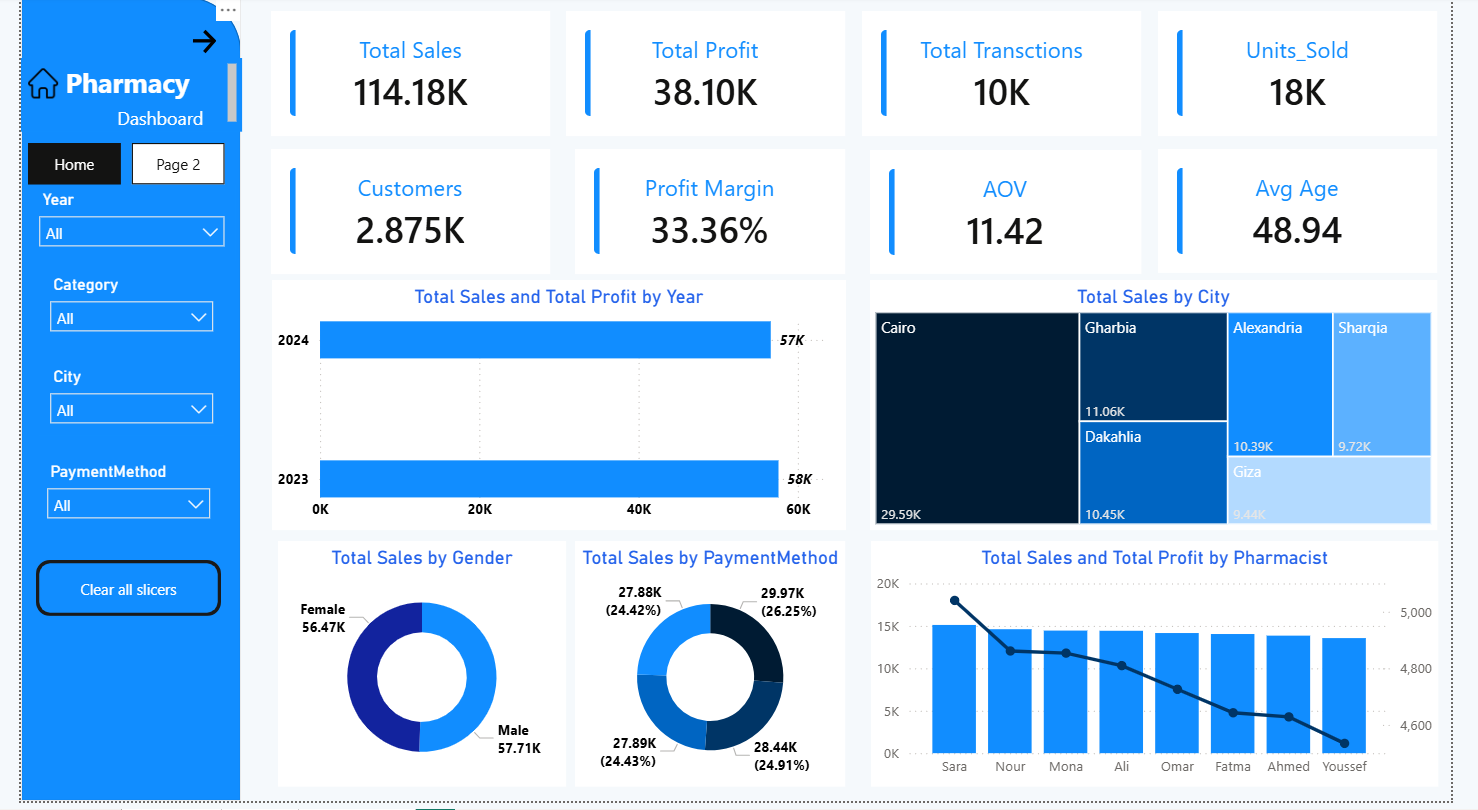

The dashboard page shown, as its layout file describes it:
{"tool":"powerbi","page":{"name":"Dashboard","canvas":[1280,720],"ordinal":0},"visuals":[{"type":"shape","box":[0,0,197,720],"z":0},{"type":"textbox","box":[0,54.6,197.9,66.3],"z":1000},{"type":"cardVisual","title":"Total Sales","fields":{"Data":["DaxMeaures.Total Sales"]},"box":[223.9,12.5,250,111.9],"z":2000},{"type":"cardVisual","title":"Total Profit","fields":{"Data":["DaxMeaures.Total Profit"]},"box":[488.1,12.5,249.9,111.9],"z":3000},{"type":"cardVisual","title":" Units Sold","fields":{"Data":["DaxMeaures.Units_Sold"]},"box":[1018.2,12.5,250,111.9],"z":4000},{"type":"cardVisual","title":"Total Transctions","fields":{"Data":["DaxMeaures.Total Transctions"]},"box":[753.4,12.5,250,111.9],"z":5000},{"type":"cardVisual","title":"Profit Margin","fields":{"Data":["DaxMeaures.Profit Margin"]},"box":[496.1,136.1,241.8,111.9],"z":6000},{"type":"cardVisual","title":" AVG Customer Age","fields":{"Data":["DaxMeaures.Avg Age"]},"box":[1018.2,136.1,249.9,111],"z":7000},{"type":"cardVisual","title":"AOV","fields":{"Data":["DaxMeaures.AOV"]},"box":[760.3,137,242.7,111],"z":8000},{"type":"cardVisual","title":"Profit Margin","fields":{"Data":["DaxMeaures.Customers"]},"box":[223.9,136.1,249.9,111.9],"z":9000},{"type":"barChart","fields":{"Y":["DaxMeaures.Total Sales"],"Category":["PharmacySales.Date.Variation.Date Hierarchy.Year","PharmacySales.Date.Variation.Date Hierarchy.Quarter","PharmacySales.Date.Variation.Date Hierarchy.Month","PharmacySales.Date.Variation.Date Hierarchy.Day"]},"box":[224.7,253.9,513.6,223.7],"z":10000},{"type":"treemap","fields":{"Values":["DaxMeaures.Total Sales"],"Group":["PharmacySales.City","PharmacySales.Branch","PharmacySales.Product"]},"box":[760.6,253.9,507.7,223.7],"z":11000},{"type":"donutChart","fields":{"Category":["PharmacySales.Gender"],"Y":["DaxMeaures.Total Sales"]},"box":[230.5,487.3,257.8,219.8],"z":12000},{"type":"donutChart","fields":{"Category":["PharmacySales.PaymentMethod"],"Y":["DaxMeaures.Total Sales"]},"box":[496,487.3,242.2,219.8],"z":13000},{"type":"lineStackedColumnComboChart","fields":{"Category":["PharmacySales.Pharmacist"],"Y":["DaxMeaures.Total Sales"],"Y2":["DaxMeaures.Total Profit"]},"box":[761,487,508,220],"z":14000},{"type":"slicer","fields":{"Values":["PharmacySales.Date.Variation.Date Hierarchy.Year"]},"box":[5.8,168.3,185.8,68.1],"z":15000},{"type":"slicer","fields":{"Values":["PharmacySales.Category"]},"box":[16.1,244.5,165.7,70.7],"z":16000},{"type":"slicer","fields":{"Values":["PharmacySales.City"]},"box":[16.1,326.9,165.7,66.3],"z":17000},{"type":"slicer","fields":{"Values":["PharmacySales.PaymentMethod"]},"box":[13.4,411.9,165.7,77.9],"z":18000},{"type":"actionButton","box":[13.4,504.2,165.7,50.1],"z":19000},{"type":"image","box":[6.3,60.9,26.9,33.1],"z":20000},{"type":"actionButton","box":[148.6,25.1,30.9,29.7],"z":25000},{"type":"bookmarkNavigator","box":[5.8,130.3,176,37.9],"z":29005}]}

Visuals, with their boxes on the page's 1280x720 design canvas (x1, y1, x2, y2). These are canvas units, not pixel positions in the 1478x810 screenshot, which may show the page scaled, cropped or inside an application window:
shape: [0, 0, 197, 720]
textbox: [0, 55, 198, 121]
"Total Sales" cardVisual: [224, 12, 474, 124]
"Total Profit" cardVisual: [488, 12, 738, 124]
" Units Sold" cardVisual: [1018, 12, 1268, 124]
"Total Transctions" cardVisual: [753, 12, 1003, 124]
"Profit Margin" cardVisual: [496, 136, 738, 248]
" AVG Customer Age" cardVisual: [1018, 136, 1268, 247]
"AOV" cardVisual: [760, 137, 1003, 248]
"Profit Margin" cardVisual: [224, 136, 474, 248]
barChart - DaxMeaures.Total Sales x PharmacySales.Date.Variation.Date Hierarchy.Year: [225, 254, 738, 478]
treemap - DaxMeaures.Total Sales x PharmacySales.City: [761, 254, 1268, 478]
donutChart - PharmacySales.Gender x DaxMeaures.Total Sales: [230, 487, 488, 707]
donutChart - PharmacySales.PaymentMethod x DaxMeaures.Total Sales: [496, 487, 738, 707]
lineStackedColumnComboChart - PharmacySales.Pharmacist x DaxMeaures.Total Sales: [761, 487, 1269, 707]
slicer - PharmacySales.Date.Variation.Date Hierarchy.Year: [6, 168, 192, 236]
slicer - PharmacySales.Category: [16, 244, 182, 315]
slicer - PharmacySales.City: [16, 327, 182, 393]
slicer - PharmacySales.PaymentMethod: [13, 412, 179, 490]
actionButton: [13, 504, 179, 554]
image: [6, 61, 33, 94]
actionButton: [149, 25, 180, 55]
bookmarkNavigator: [6, 130, 182, 168]
